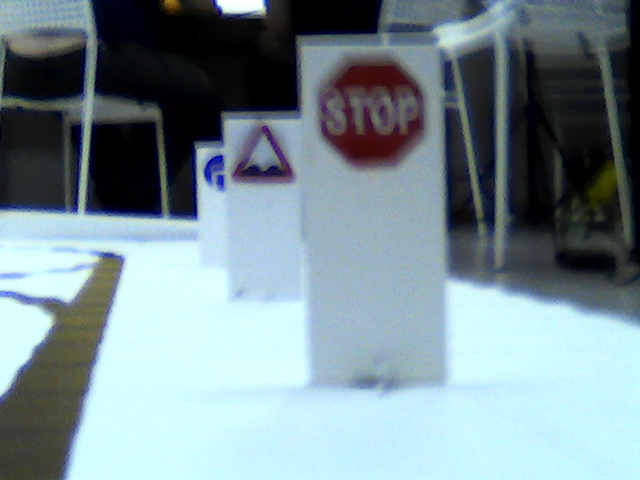Nerov: (229, 122, 295, 186)
Stop: (313, 58, 430, 178)
